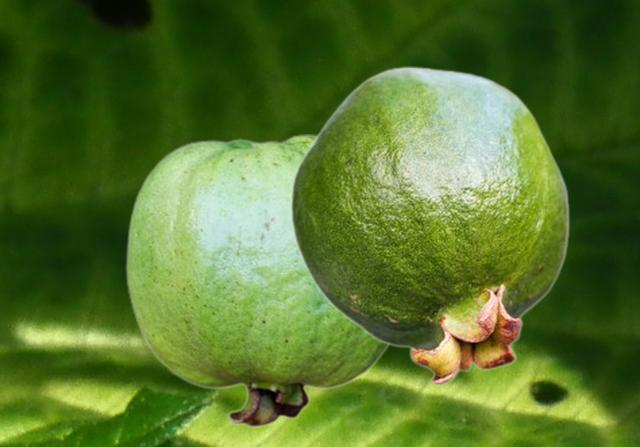guava: (289, 66, 569, 385), (125, 134, 390, 427)
